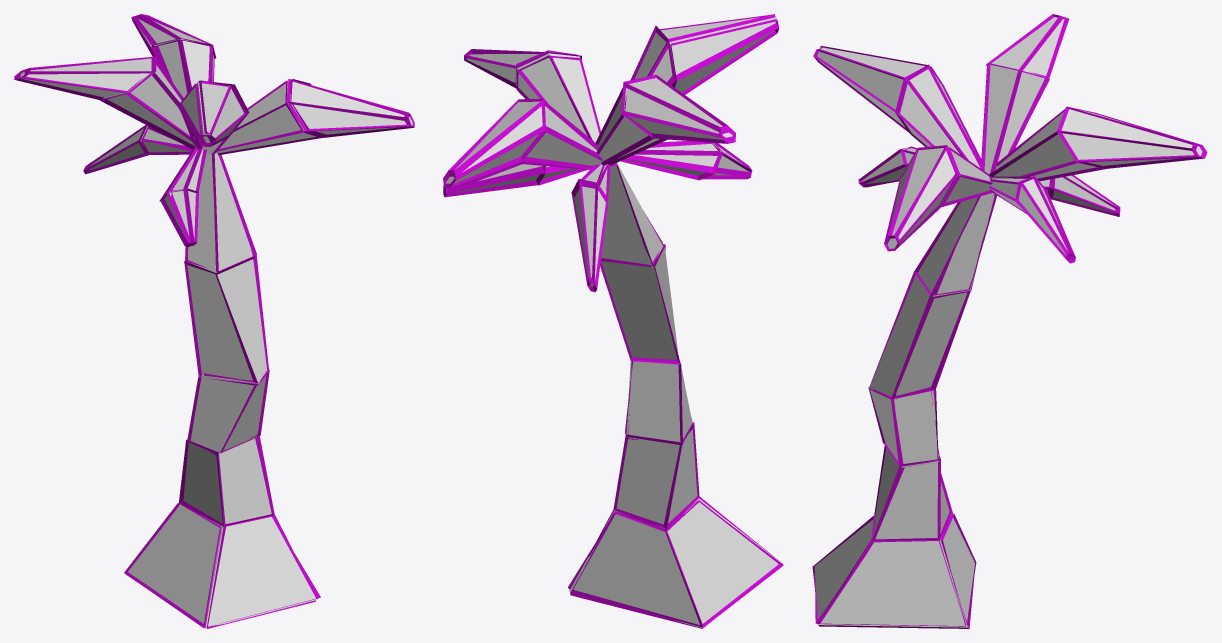
The model's file is 123plam_sample.fbx.
3 renders of one model, left to right at view 1: azimuth 30°, elevation 25°; view 2: azimuth 150°, elevation 25°; view 3: azimuth 270°, elevation 25°, orthographic. The views are drawn at different scales.
Visible parts, largest first — view 1: Cylinder.007; view 2: Cylinder.007; view 3: Cylinder.007.
Part boxes in pixels (<box>): Cylinder.007: <box>14,14,414,628</box>; Cylinder.007: <box>443,14,783,628</box>; Cylinder.007: <box>812,14,1207,628</box>.
Bounding box in the file's own units: 421 × 624 × 423.
